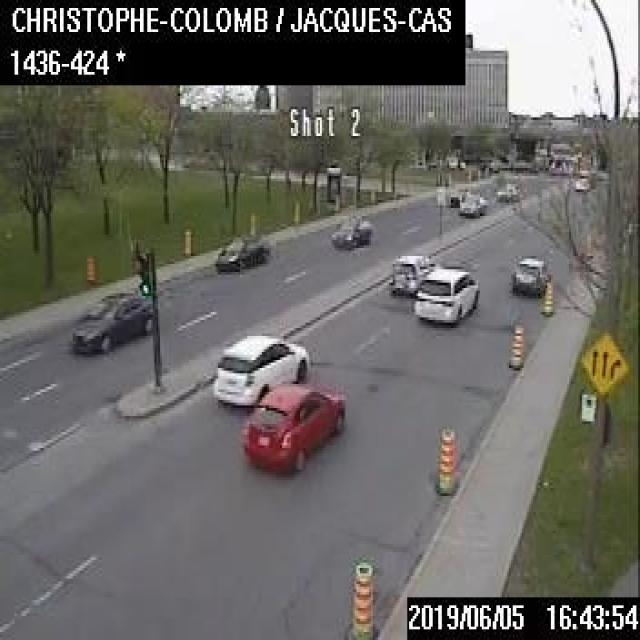construction: (346, 558, 377, 638), (433, 425, 457, 496), (506, 321, 524, 368), (539, 277, 553, 316), (182, 226, 192, 255), (85, 253, 94, 281), (292, 197, 300, 222), (248, 208, 255, 232), (333, 192, 339, 210), (368, 186, 374, 202)
vehicle: (240, 381, 344, 471), (212, 332, 308, 406), (67, 285, 151, 352), (412, 264, 478, 322), (213, 229, 267, 272), (387, 251, 442, 292), (509, 253, 549, 296), (329, 211, 373, 248), (457, 192, 486, 216), (494, 180, 519, 200), (449, 184, 470, 205), (573, 167, 591, 189), (444, 154, 464, 167)
